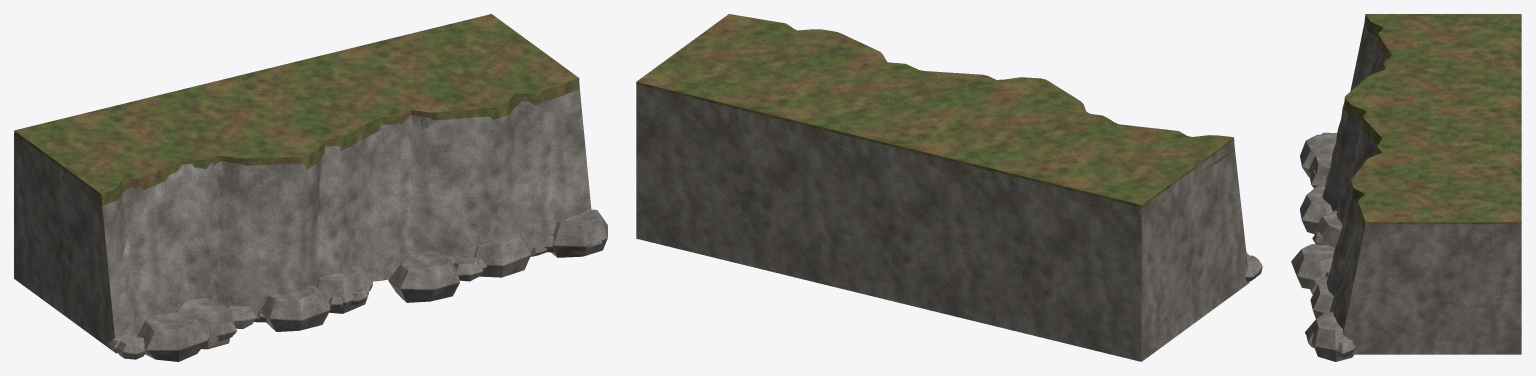
The model's file is cliff_rocks.glb.
The picture shows the model from 3 angles, left to right: view 1: azimuth 30°, elevation 25°; view 2: azimuth 150°, elevation 25°; view 3: azimuth 270°, elevation 25°; orthographic projection. The views are drawn at different scales.
Parts seen in each view (by area): view 1: Continuous angular escarpment bedrock, Continuous soil and grass cliff crest; view 2: Continuous angular escarpment bedrock, Continuous soil and grass cliff crest; view 3: Continuous angular escarpment bedrock, Continuous soil and grass cliff crest.
Part boxes in pixels (x1,y1,x2,y2): Continuous angular escarpment bedrock: (14, 88, 607, 361); Continuous soil and grass cliff crest: (14, 14, 579, 206); Continuous angular escarpment bedrock: (636, 84, 1262, 361); Continuous soil and grass cliff crest: (636, 14, 1234, 217); Continuous angular escarpment bedrock: (1291, 24, 1521, 361); Continuous soil and grass cliff crest: (1344, 14, 1521, 233).
Size of the model in its own units: 12.52 by 3.73 by 5.62.
Materials: 2 (2 with a texture image).
